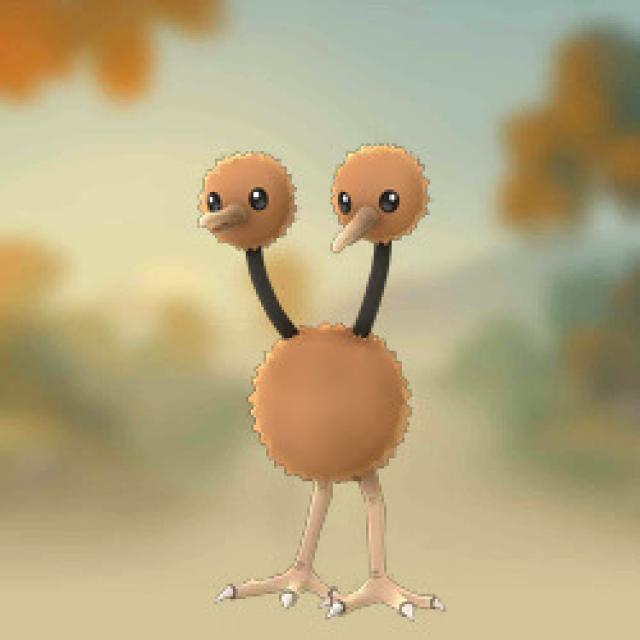Doduo: (189, 138, 436, 608)
